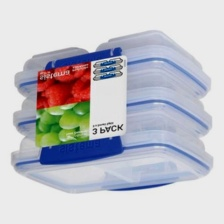plastic_box: (4, 108, 217, 200), (8, 24, 215, 109), (7, 68, 215, 146)
